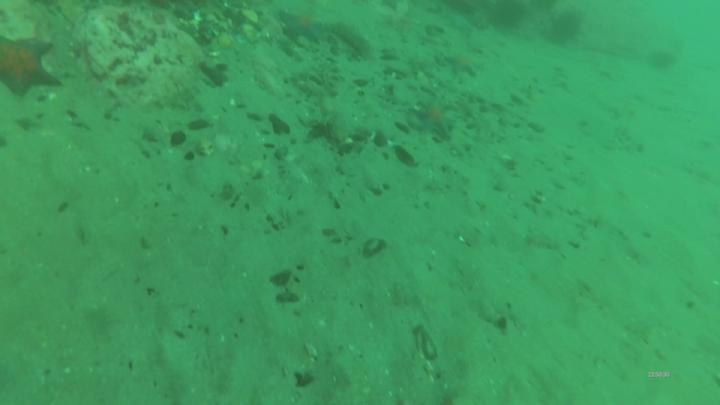echinus: (489, 1, 531, 33), (551, 7, 585, 45), (649, 46, 682, 73)
holothurian: (326, 19, 377, 63), (317, 49, 344, 101)
starfish: (1, 32, 67, 104), (411, 98, 460, 142), (276, 9, 326, 45), (440, 48, 486, 80)
